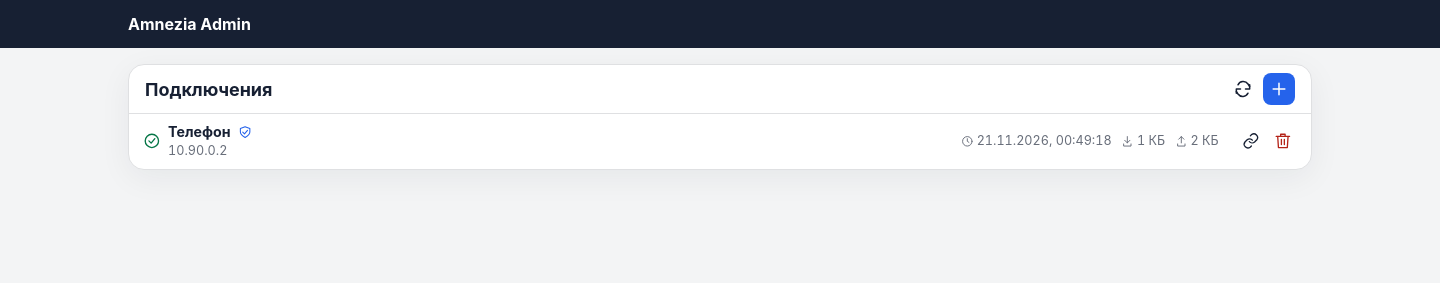
Scenario: App › retains current peers on failed refresh
Expected: the text "Телефон" is shown, [168,121,231,142]
Click the button named "Обновить": [1243, 89] box [1227,73,1259,105]
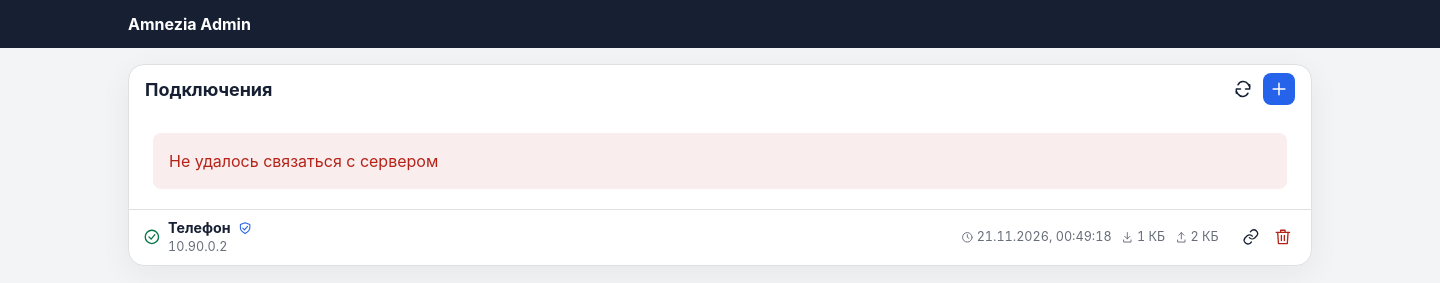
Expected: the text "Телефон" is shown, [168,217,231,238]
Expected: the message "Не удалось связаться с сервером" is shown, [153,133,1287,189]
